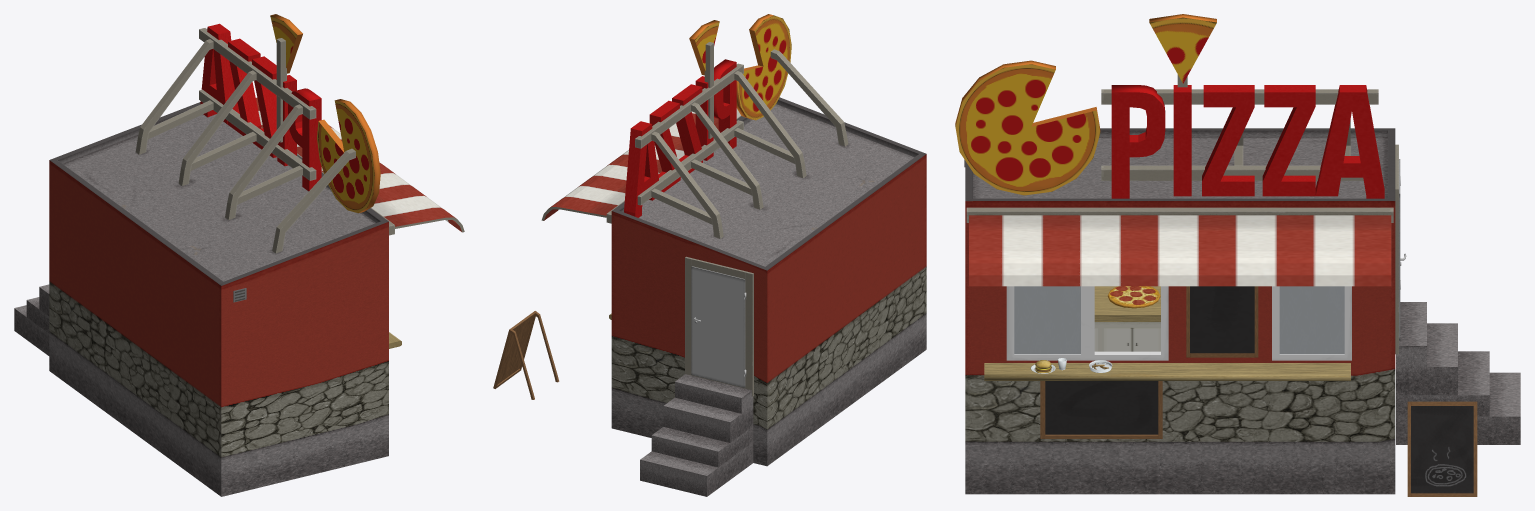
Rendered from StandsPizza2_DoNotUse.fbx.
3 views of the same model, side by side, from view 1: azimuth 30°, elevation 25°; view 2: azimuth 150°, elevation 25°; view 3: azimuth 270°, elevation 25° (orthographic). The views are drawn at different scales.
Parts seen in each view (by area): view 1: Pizza_Stand; view 2: Pizza_Stand, Pizza_Stand_Door, Pizza_Stand_Sign; view 3: Pizza_Stand, Windows, Pizza_Stand_Sign, Decoration.
Boxes of the visible parts, x1,y1,x2,y2 form: Pizza_Stand: (14, 14, 464, 496); Pizza_Stand: (541, 14, 926, 496); Pizza_Stand_Door: (691, 266, 746, 387); Pizza_Stand_Sign: (493, 311, 559, 399); Pizza_Stand: (955, 14, 1520, 494); Windows: (1014, 286, 1344, 354); Pizza_Stand_Sign: (1407, 401, 1477, 496); Decoration: (1030, 358, 1112, 373).
Size of the model in its own units: 395 by 539 by 588.
